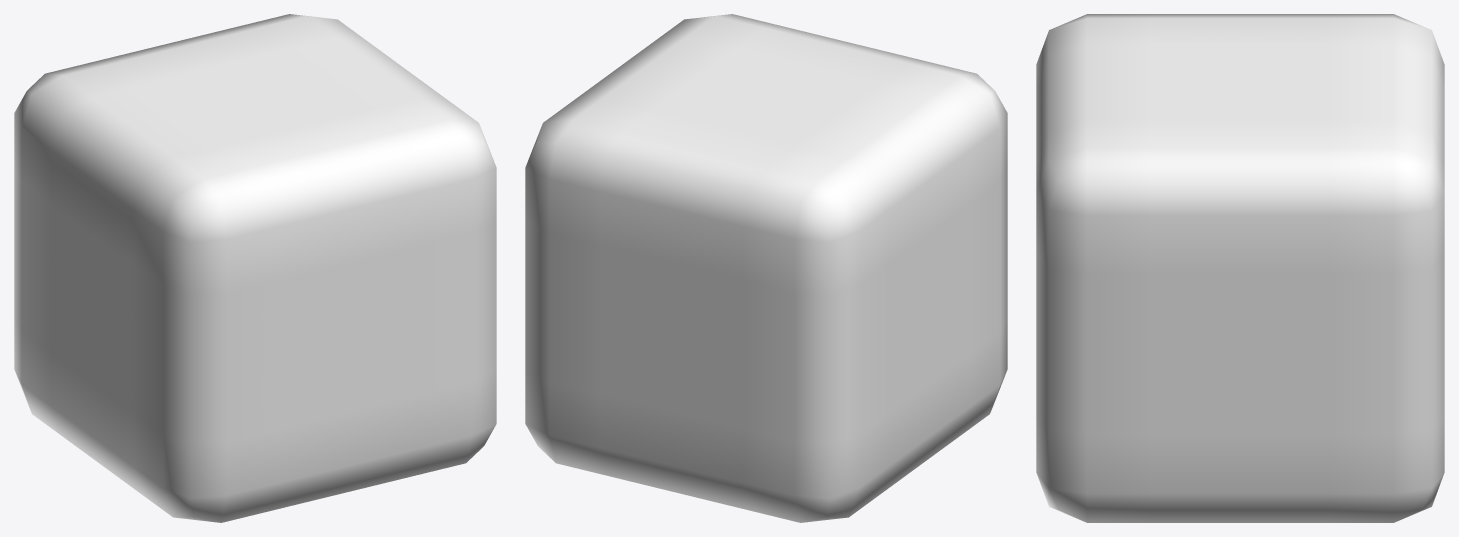
The model's file is block_sima.fbx.
The picture shows the model from 3 angles, left to right: view 1: azimuth 30°, elevation 25°; view 2: azimuth 150°, elevation 25°; view 3: azimuth 270°, elevation 25°; orthographic projection. The views are drawn at different scales.
Parts seen in each view (by area): view 1: pCube1; view 2: pCube1; view 3: pCube1.
Boxes of the visible parts, x1,y1,x2,y2 form: pCube1: [14, 14, 496, 522]; pCube1: [525, 14, 1007, 522]; pCube1: [1036, 14, 1444, 522].
Bounding box in the file's own units: 2.06 × 2.06 × 2.06.
Materials: 1 (1 with a texture image).
